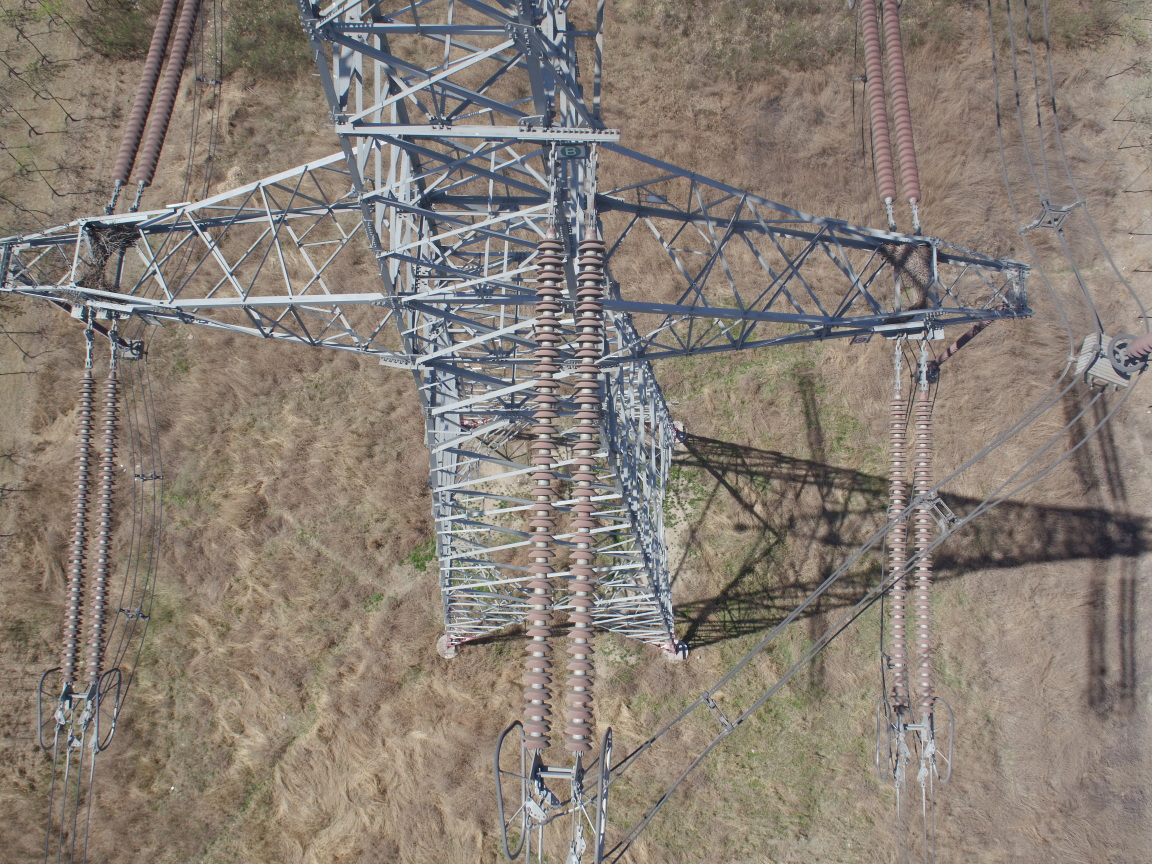insulator: (515, 213, 616, 763), (51, 352, 127, 688), (103, 1, 207, 198), (850, 1, 933, 224), (884, 384, 939, 710)
